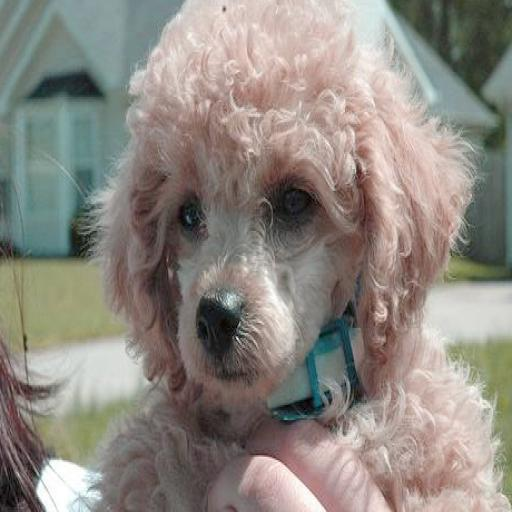dog_face: (102, 0, 441, 398)
